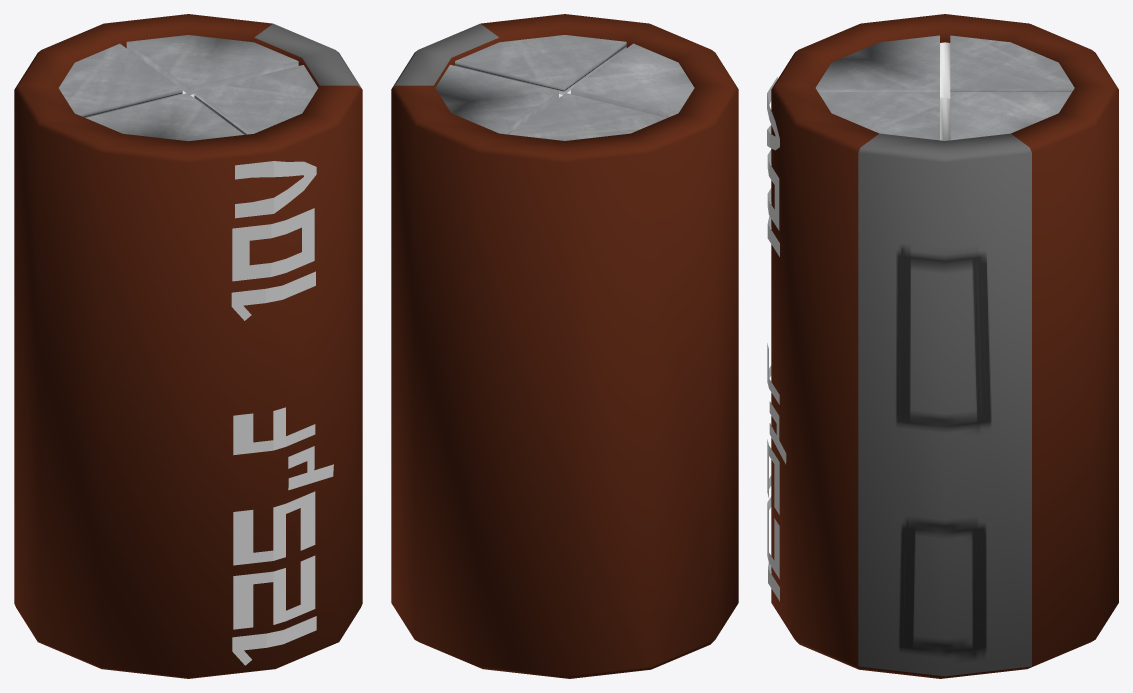
Rendered from kondensator_brazowy.fbx.
3 renders of one model, left to right at view 1: azimuth 30°, elevation 25°; view 2: azimuth 150°, elevation 25°; view 3: azimuth 270°, elevation 25°, orthographic.
Parts seen in each view (by area): view 1: Kondensator_brazowy; view 2: Kondensator_brazowy; view 3: Kondensator_brazowy.
Part boxes in pixels (x1=…): Kondensator_brazowy: x1=14, y1=14, x2=362, y2=678; Kondensator_brazowy: x1=391, y1=14, x2=738, y2=678; Kondensator_brazowy: x1=767, y1=14, x2=1118, y2=678.
Size of the model in its own units: 200 by 331 by 202.
